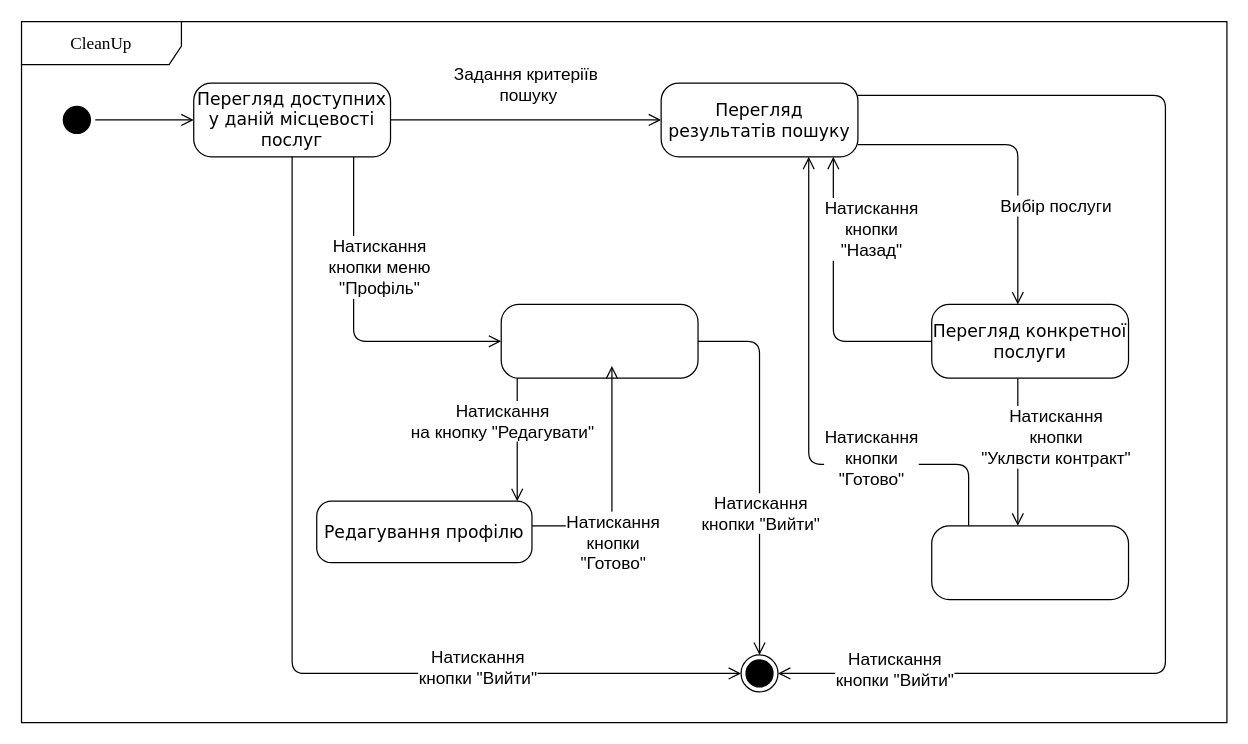
Image size: 1248x744. Some labels were removed from this diagram. The centre of each missing label's shape, as x and y in pixels:
"Перегляд власного профілю" goes at (x=599, y=340).
"Укладання контракту на прибирання" goes at (x=1029, y=562).
